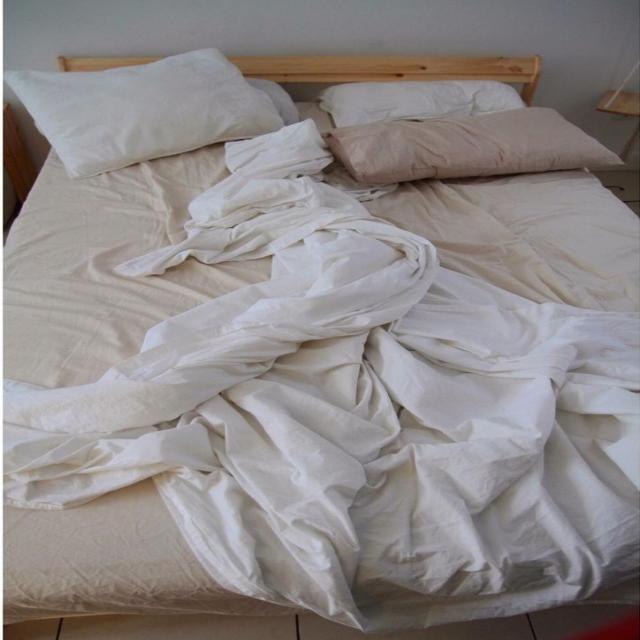bed: (42, 56, 640, 598)
